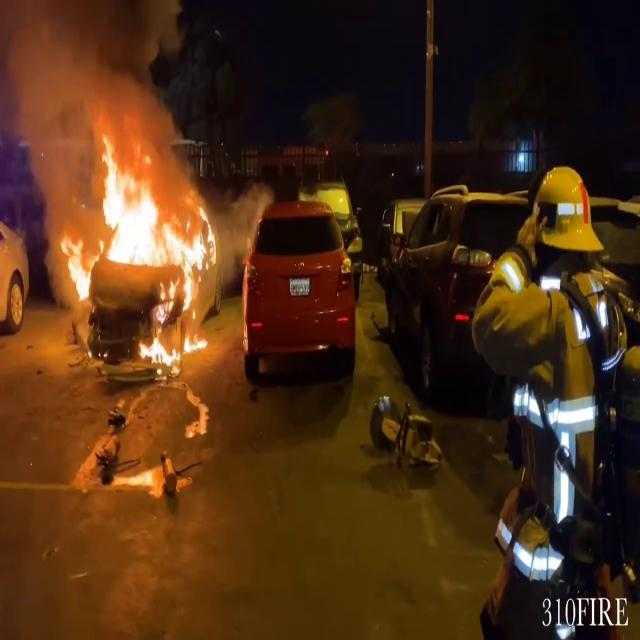Fire: (64, 123, 216, 361)
Smoke: (0, 0, 199, 167)
